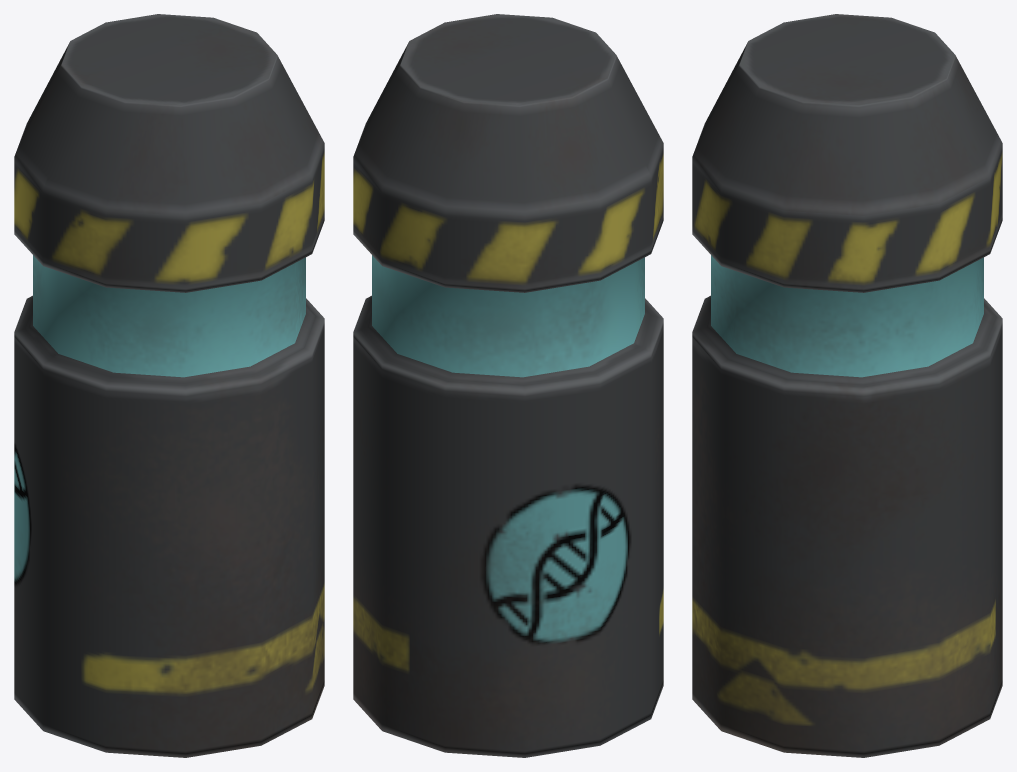
Rendered from Canister_01.fbx.
3 renders of one model, left to right at view 1: azimuth 30°, elevation 25°; view 2: azimuth 150°, elevation 25°; view 3: azimuth 270°, elevation 25°, orthographic.
Parts seen in each view (by area): view 1: pCylinder107; view 2: pCylinder107; view 3: pCylinder107.
Boxes of the visible parts, box(x1,y1,x2,y2) form: pCylinder107: box(14, 14, 324, 757); pCylinder107: box(353, 14, 663, 757); pCylinder107: box(692, 14, 1002, 757).
Size of the model in its own units: 41.88 by 94.35 by 41.88.
